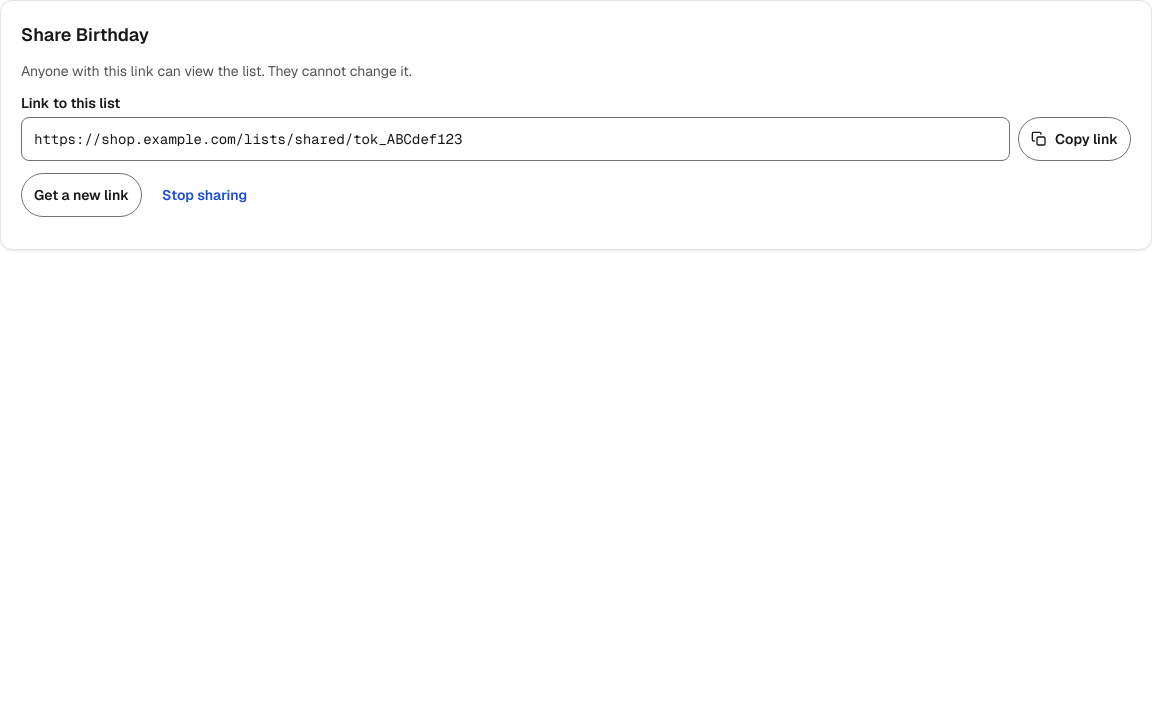
ShareListPanel: with JS › confirming disables: posts mode disable, link disappears, Share button focused
Click the button "Stop sharing" at (205, 195), box [150, 173, 259, 217]
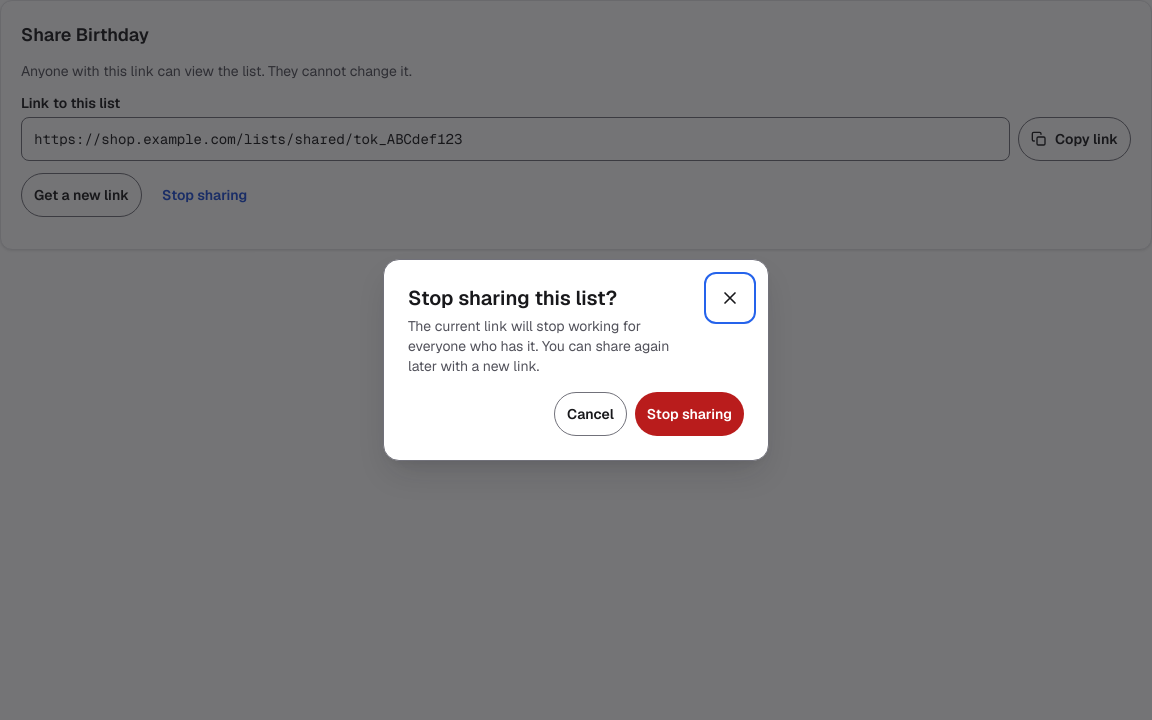
Click the button "Stop sharing" at (689, 414), box [635, 392, 744, 436]
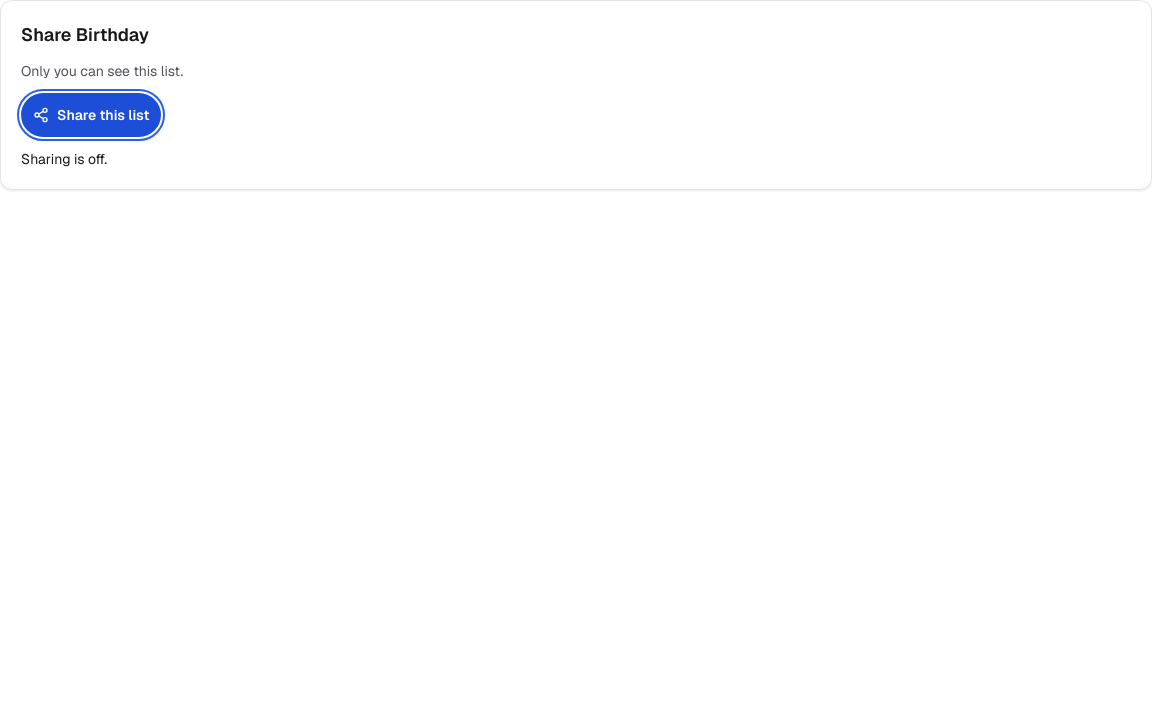
Expected: the text "/lists/shared/" is not shown
Now the text with test id "share-status" reads "Sharing is off.", box [21, 150, 107, 168]
